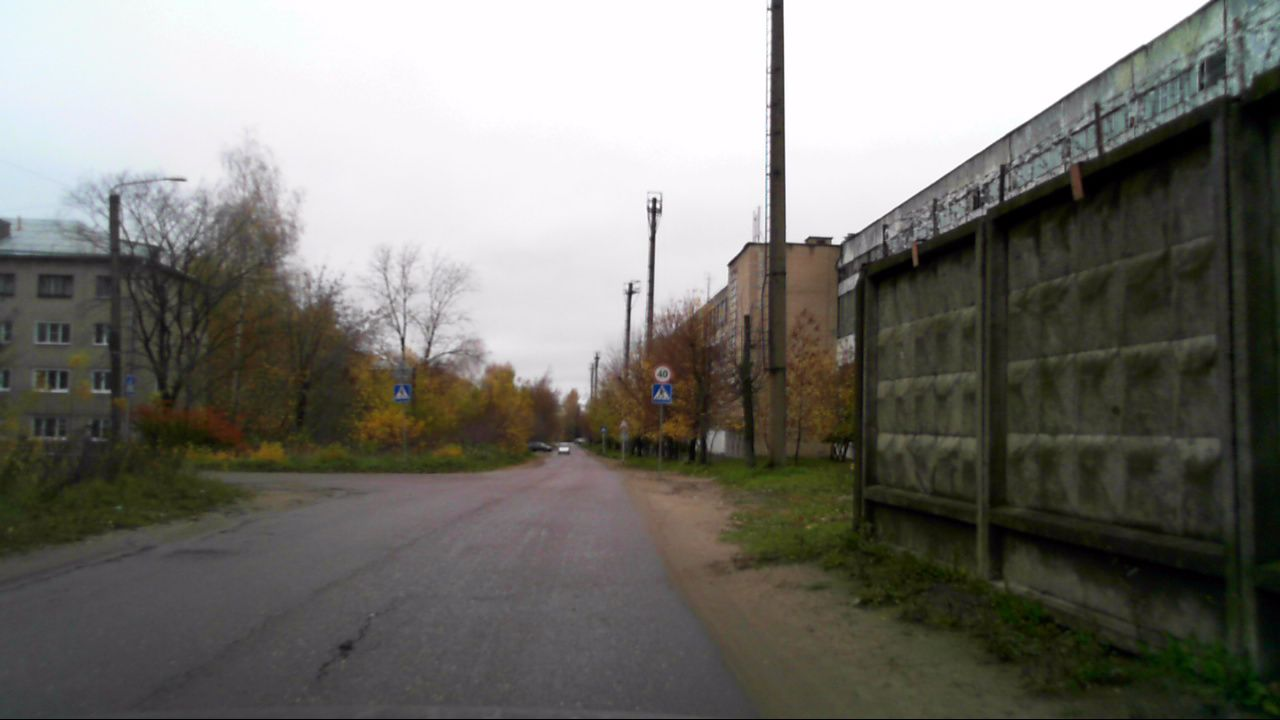speed_warning_40: (653, 363, 673, 382)
